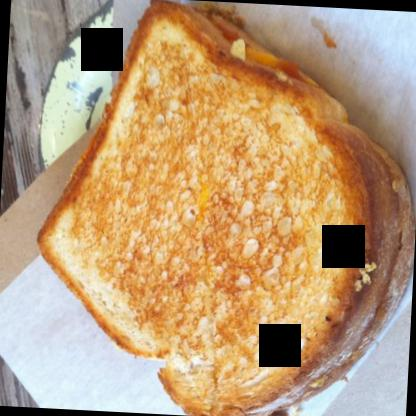toast bread: (27, 0, 415, 415)
